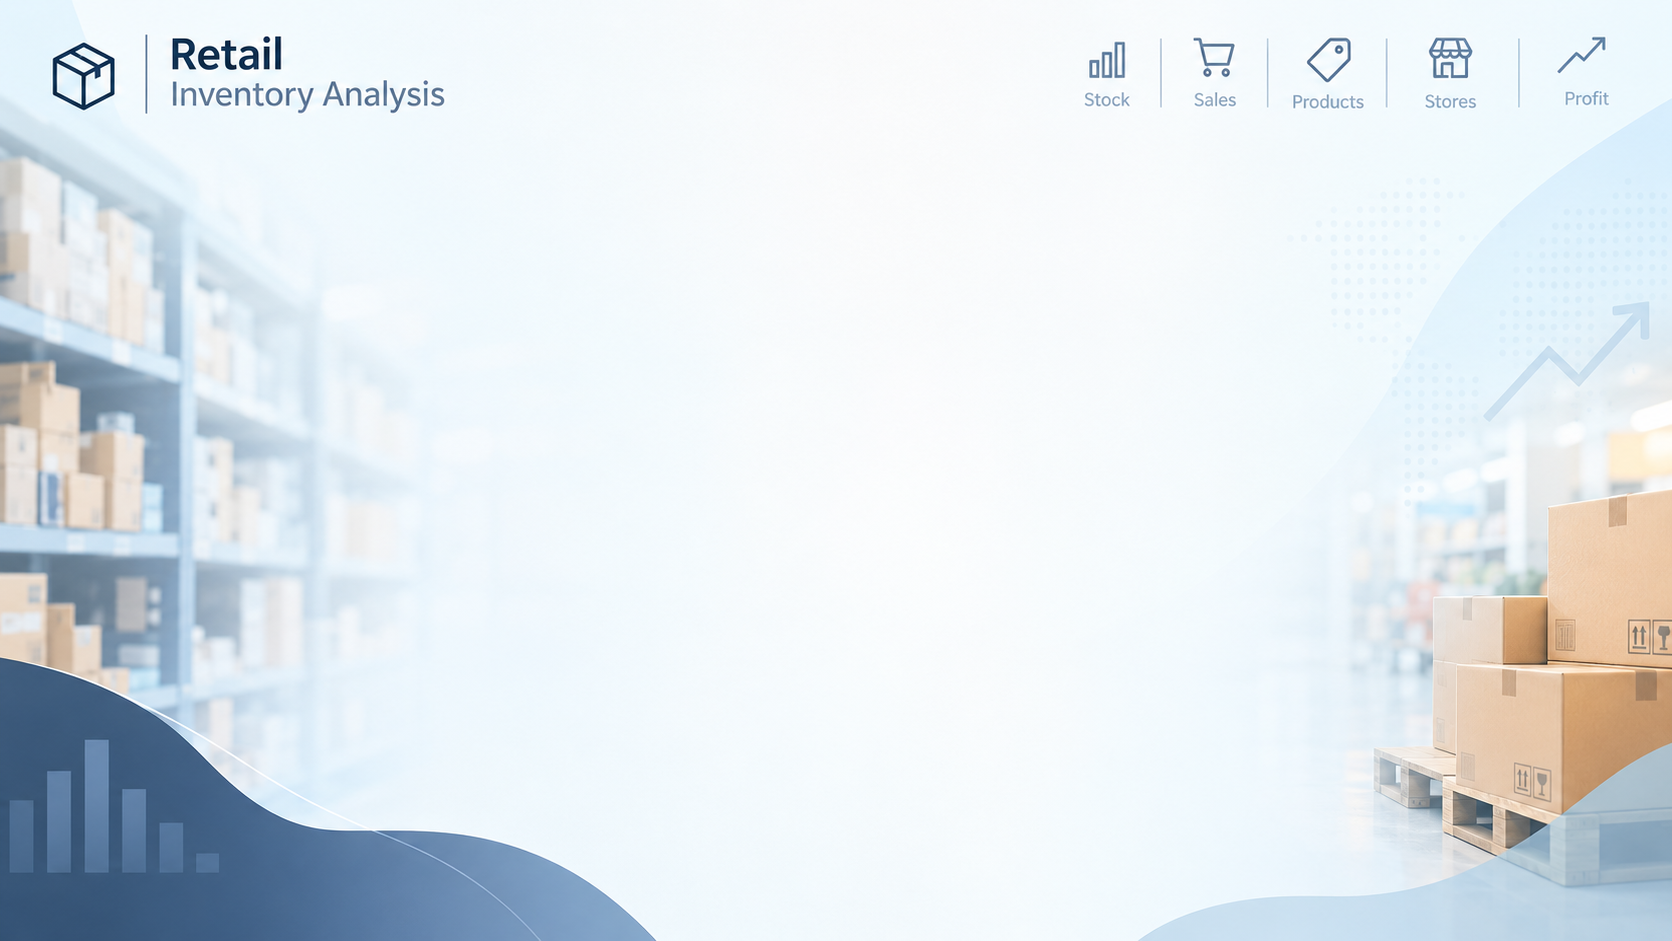

This screenshot's page, from the dashboard's own definition file:
{"tool":"powerbi","page":{"name":"Dashboard Navigate","canvas":[1280,720],"ordinal":0},"visuals":[{"type":"image","box":[9.6,0,1270.7,720.4],"z":0}]}

Visuals, with their boxes in screenshot pixels (x1, y1, x2, y2), scaled from the page's 1280x720 canvas onto the 1672x941 screenshot:
image: BBox(13, 0, 1671, 940)
